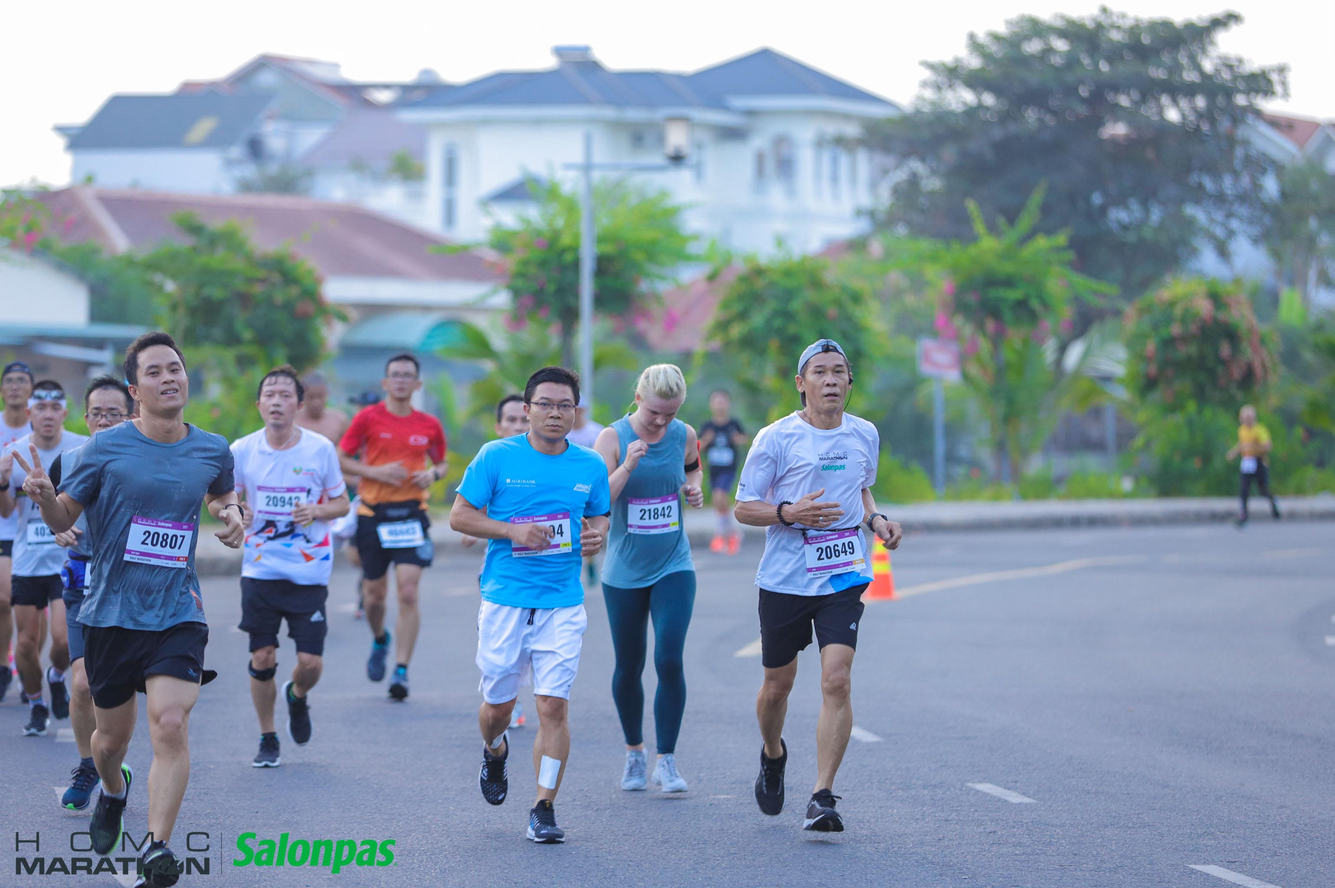bib: (121, 516, 193, 573), (800, 532, 868, 577), (512, 517, 573, 554), (627, 496, 681, 533), (256, 487, 310, 520), (378, 522, 423, 548), (27, 521, 62, 545)
